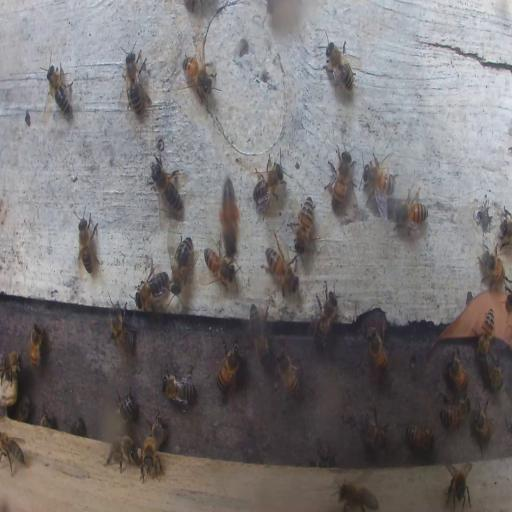nonpollenbee: (359, 149, 400, 212), (324, 144, 355, 210), (251, 156, 285, 214), (150, 156, 184, 214), (182, 49, 216, 105), (324, 38, 356, 95), (264, 241, 297, 296), (203, 241, 237, 291), (122, 48, 146, 117), (215, 336, 244, 393), (44, 62, 73, 119), (311, 288, 338, 346), (444, 461, 474, 511), (76, 211, 99, 275), (169, 234, 195, 288), (274, 348, 301, 399), (249, 302, 271, 364), (161, 367, 195, 407), (108, 304, 136, 352), (336, 481, 380, 511), (293, 195, 315, 254), (137, 270, 170, 306), (362, 410, 390, 452), (471, 399, 493, 452), (107, 435, 139, 471), (0, 349, 22, 400), (0, 432, 26, 475), (393, 198, 428, 229), (439, 396, 470, 430), (366, 324, 388, 370), (444, 352, 468, 392), (482, 247, 505, 287), (141, 435, 161, 479), (404, 424, 435, 452), (478, 308, 494, 358), (29, 320, 43, 372), (148, 413, 165, 450), (117, 388, 134, 420), (488, 355, 502, 391), (17, 394, 32, 422), (500, 208, 512, 242), (40, 407, 56, 427), (316, 447, 330, 468), (68, 418, 84, 434)
pollenbee: (218, 173, 242, 253)
